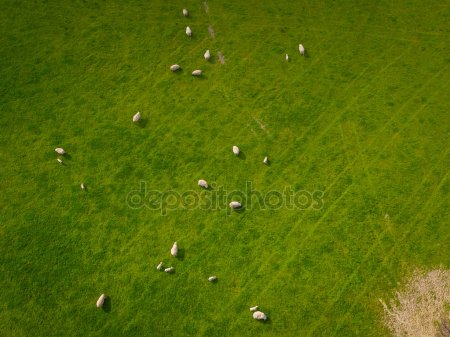sheep: (252, 310, 268, 321), (95, 292, 106, 308), (170, 241, 178, 257), (229, 201, 242, 210), (197, 179, 209, 188), (132, 111, 141, 122), (231, 144, 240, 155), (54, 146, 65, 155), (298, 43, 305, 56), (203, 49, 211, 60), (170, 64, 181, 71), (191, 69, 202, 76), (185, 26, 192, 35), (156, 261, 163, 270), (208, 275, 217, 282), (164, 267, 174, 273), (182, 6, 188, 15), (285, 54, 289, 61)
